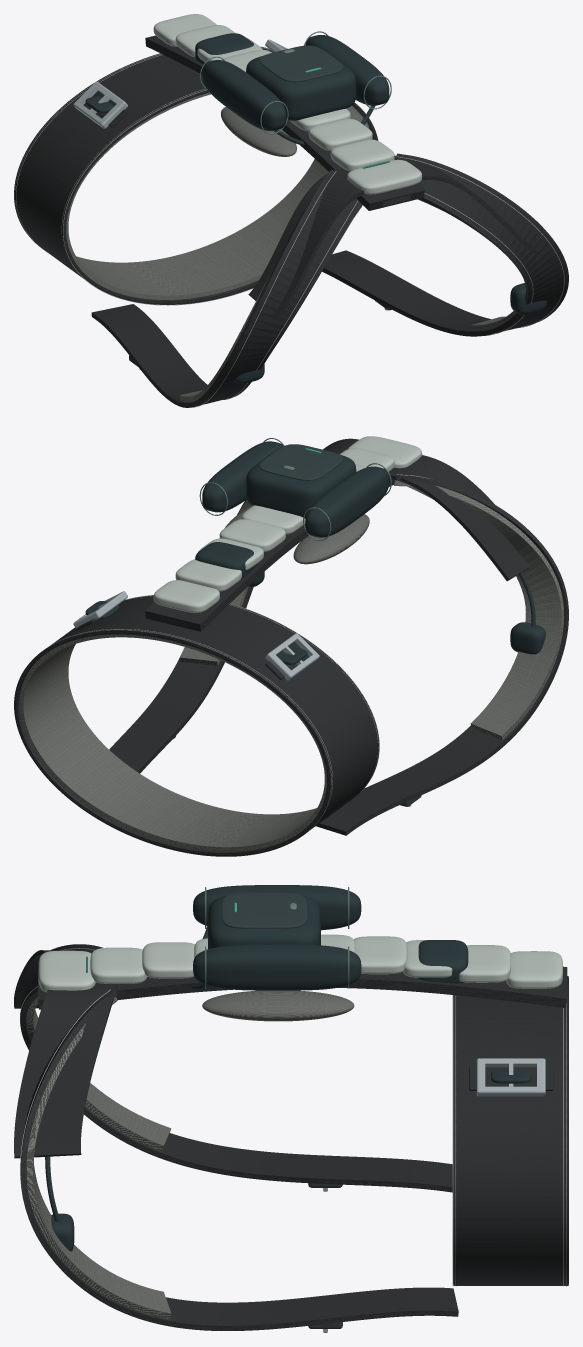
Rendered from SpineLink_P10_Exterior.glb.
3 renders of one model, top to bottom at view 1: azimuth 30°, elevation 25°; view 2: azimuth 150°, elevation 25°; view 3: azimuth 270°, elevation 25°, orthographic. The views are drawn at different scales.
Parts seen in each view (by area): view 1: thoracic_belt, shoulder_webbing_1, shoulder_webbing_-1, belt_inner_lining, upper_y_bridge_-1, central_outer, assist_outer_-1, spine_textile_backing, assist_outer_1, central_face, spine_skin_0, paraspinal_pad_-1 (+14 smaller); view 2: belt_inner_lining, thoracic_belt, shoulder_webbing_-1, shoulder_mesh_pad_-1, shoulder_webbing_1, upper_y_bridge_-1, assist_outer_-1, central_outer, belt_binding_0p242, spine_textile_backing, assist_outer_1, central_face (+13 smaller); view 3: thoracic_belt, shoulder_webbing_1, shoulder_webbing_-1, upper_y_bridge_1, assist_outer_1, shoulder_mesh_pad_1, spine_textile_backing, paraspinal_pad_1, assist_outer_-1, central_face, central_outer, shoulder_mesh_pad_-1 (+17 smaller).
Boxes of the visible parts, x1,y1,x2,y2 form: thoracic_belt: [14, 46, 377, 304]; shoulder_webbing_1: [322, 153, 568, 336]; shoulder_webbing_-1: [91, 169, 362, 407]; belt_inner_lining: [66, 92, 358, 299]; upper_y_bridge_-1: [248, 168, 391, 319]; central_outer: [246, 50, 356, 120]; assist_outer_-1: [202, 60, 286, 130]; spine_textile_backing: [145, 35, 424, 210]; assist_outer_1: [305, 35, 389, 105]; central_face: [259, 45, 342, 82]; spine_skin_0: [347, 159, 422, 194]; paraspinal_pad_-1: [221, 107, 296, 156]; belt_inner_lining: [19, 634, 326, 851]; thoracic_belt: [14, 595, 379, 856]; shoulder_webbing_-1: [316, 475, 568, 835]; shoulder_mesh_pad_-1: [393, 480, 564, 740]; shoulder_webbing_1: [109, 499, 253, 773]; upper_y_bridge_-1: [389, 455, 530, 581]; assist_outer_-1: [305, 466, 389, 537]; central_outer: [246, 448, 356, 518]; belt_binding_0p242: [15, 629, 331, 855]; spine_textile_backing: [145, 477, 394, 631]; assist_outer_1: [202, 441, 283, 512]; central_face: [259, 444, 342, 480]; thoracic_belt: [453, 976, 568, 1285]; shoulder_webbing_1: [20, 990, 458, 1330]; shoulder_webbing_-1: [20, 944, 452, 1192]; upper_y_bridge_1: [14, 982, 116, 1158]; assist_outer_1: [193, 944, 361, 990]; shoulder_mesh_pad_1: [26, 996, 171, 1319]; spine_textile_backing: [38, 966, 567, 1009]; paraspinal_pad_1: [202, 990, 354, 1021]; assist_outer_-1: [193, 885, 361, 930]; central_face: [222, 892, 306, 928]; central_outer: [208, 895, 320, 949]; shoulder_mesh_pad_-1: [26, 997, 171, 1151].
Bounding box in the file's own units: 0.4098 × 0.3505 × 0.4815.
18 materials, 5 textured.
